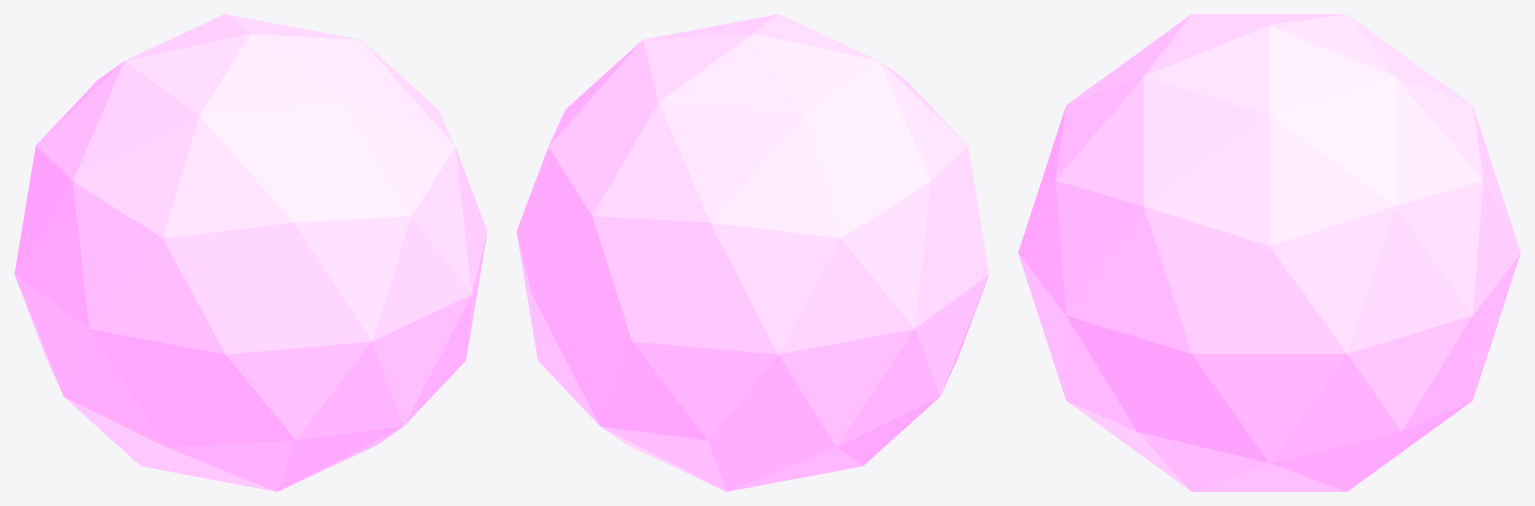
The model's file is Orbe_Roxo.glb.
3 views of the same model, side by side, from view 1: azimuth 30°, elevation 25°; view 2: azimuth 150°, elevation 25°; view 3: azimuth 270°, elevation 25° (orthographic). The views are drawn at different scales.
Parts seen in each view (by area): view 1: Icosphere.001; view 2: Icosphere.001; view 3: Icosphere.001.
Boxes of the visible parts, <box> form: Icosphere.001: <box>14,14,487,491</box>; Icosphere.001: <box>516,14,989,491</box>; Icosphere.001: <box>1018,14,1520,491</box>.
Bounding box in the file's own units: 0.1902 × 0.2 × 0.2.
